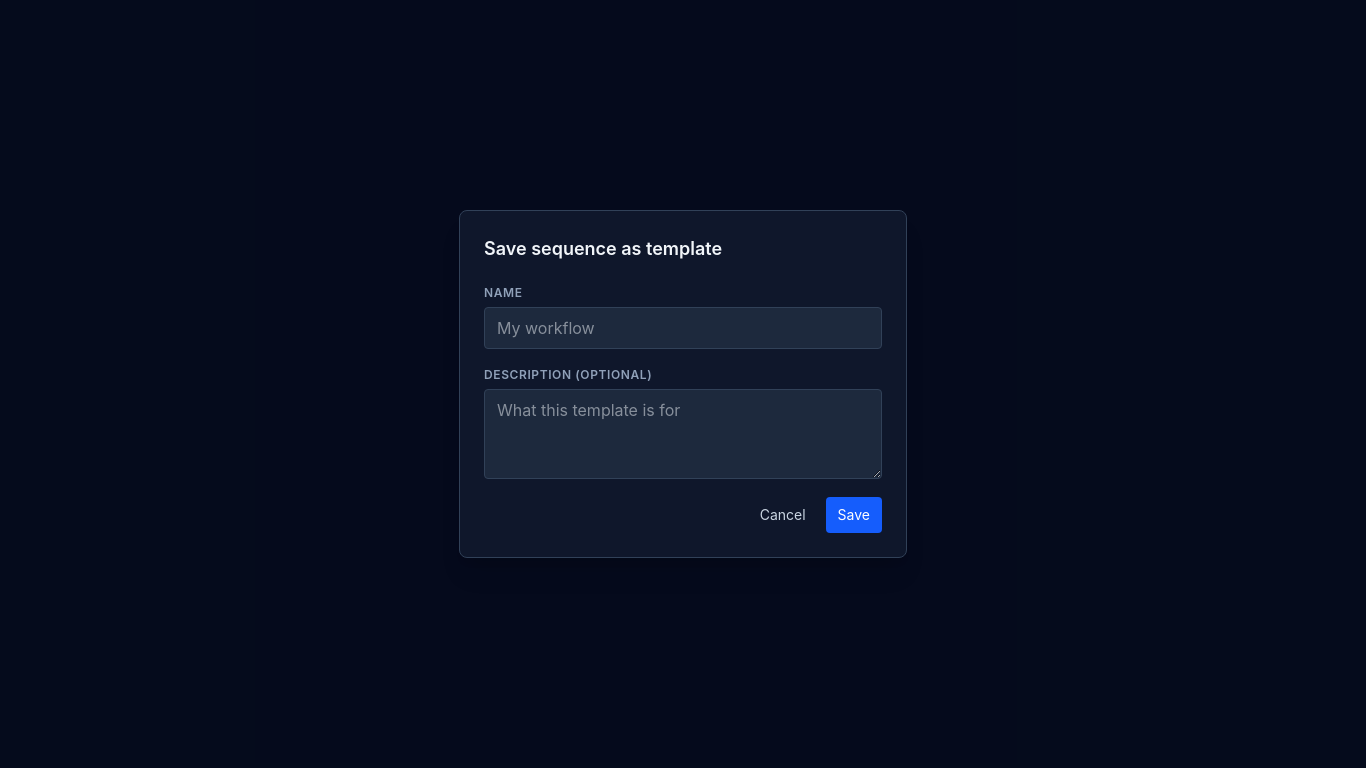
Test: SaveTemplateModal › requires a non-empty name (inline validation, no fetch)
This screenshot has width=1366, height=768.
Click the button "Save" at [854, 515], box 826,497 -> 882,533
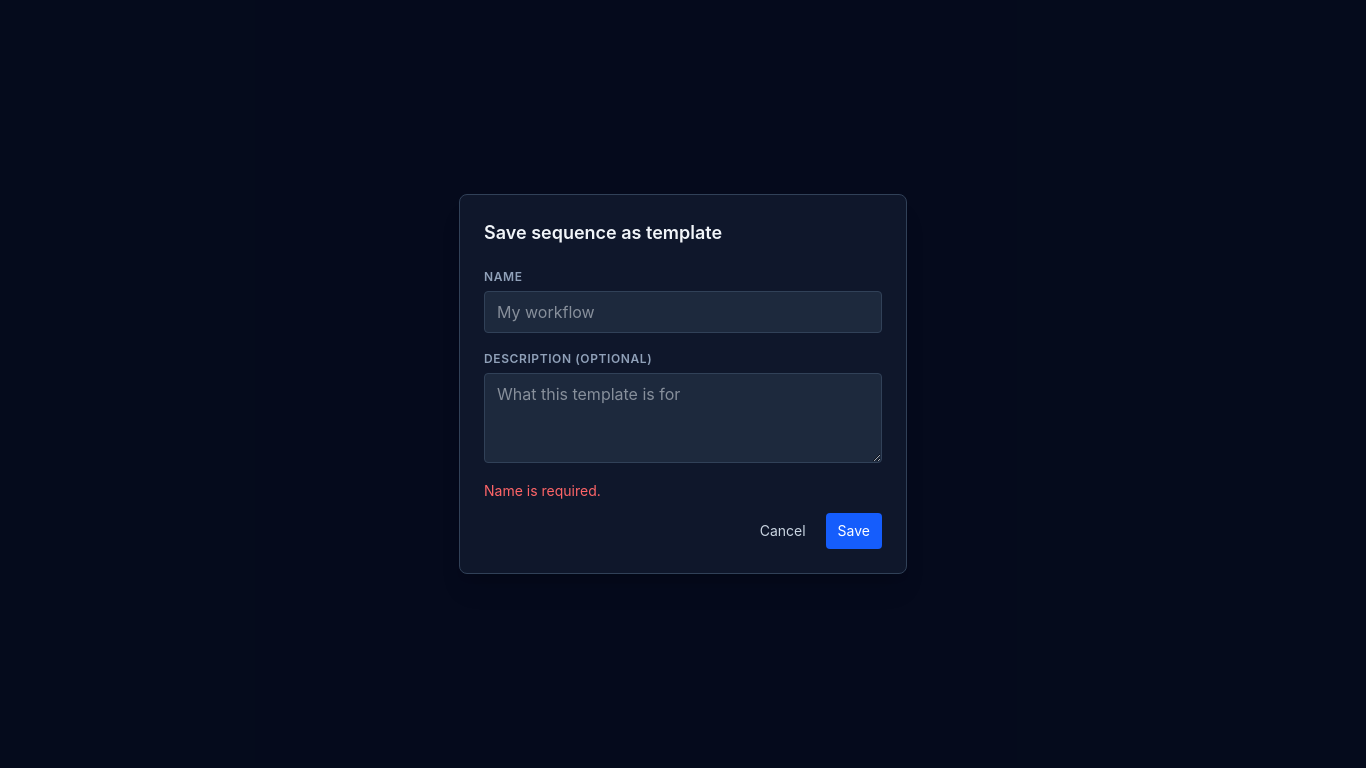
Expected: the message shows "Name is required", 484,482 -> 601,499
